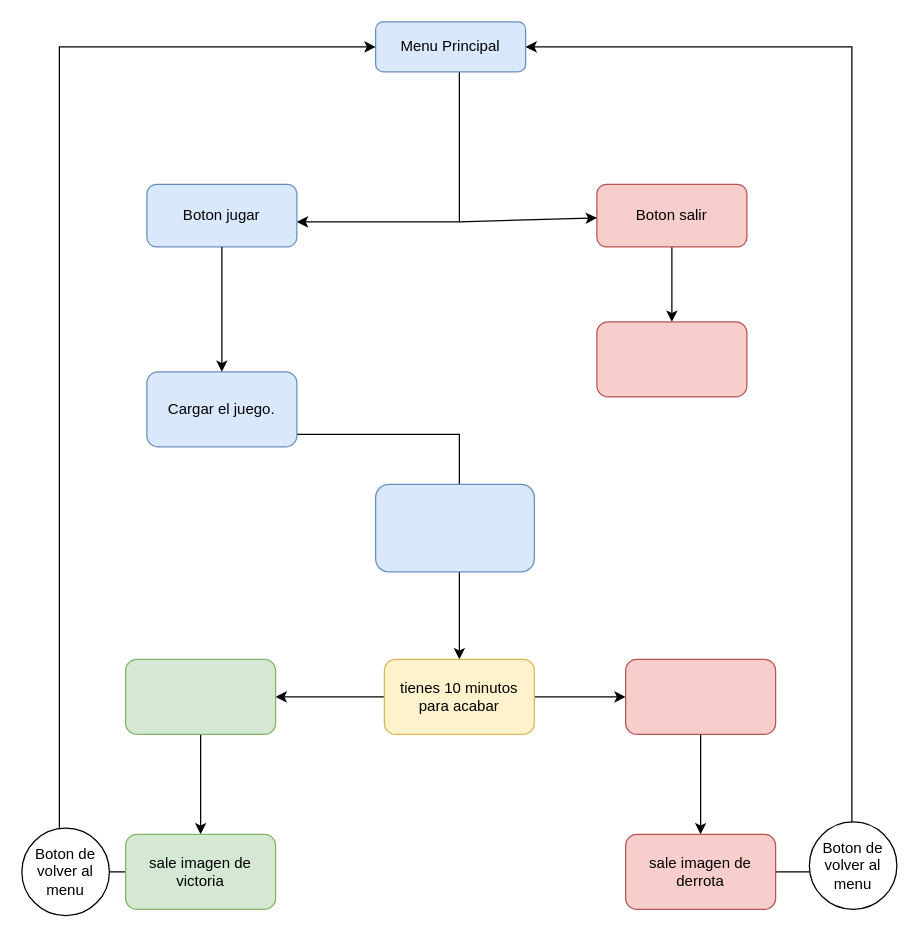
Some shapes in this 919 by 938 pixel diagram are drawn without their labels. Here are the shapes that lost their labels. From the top down, the centre of each, then its label:
At [671,359]: "Cerrar aplicacion".
At [454,527]: "Buscar tres libros por toda la casa que tiene los puzzles".
At [200,696]: "completas los 3 puzzles".
At [700,696]: "se agota el tiempo".
